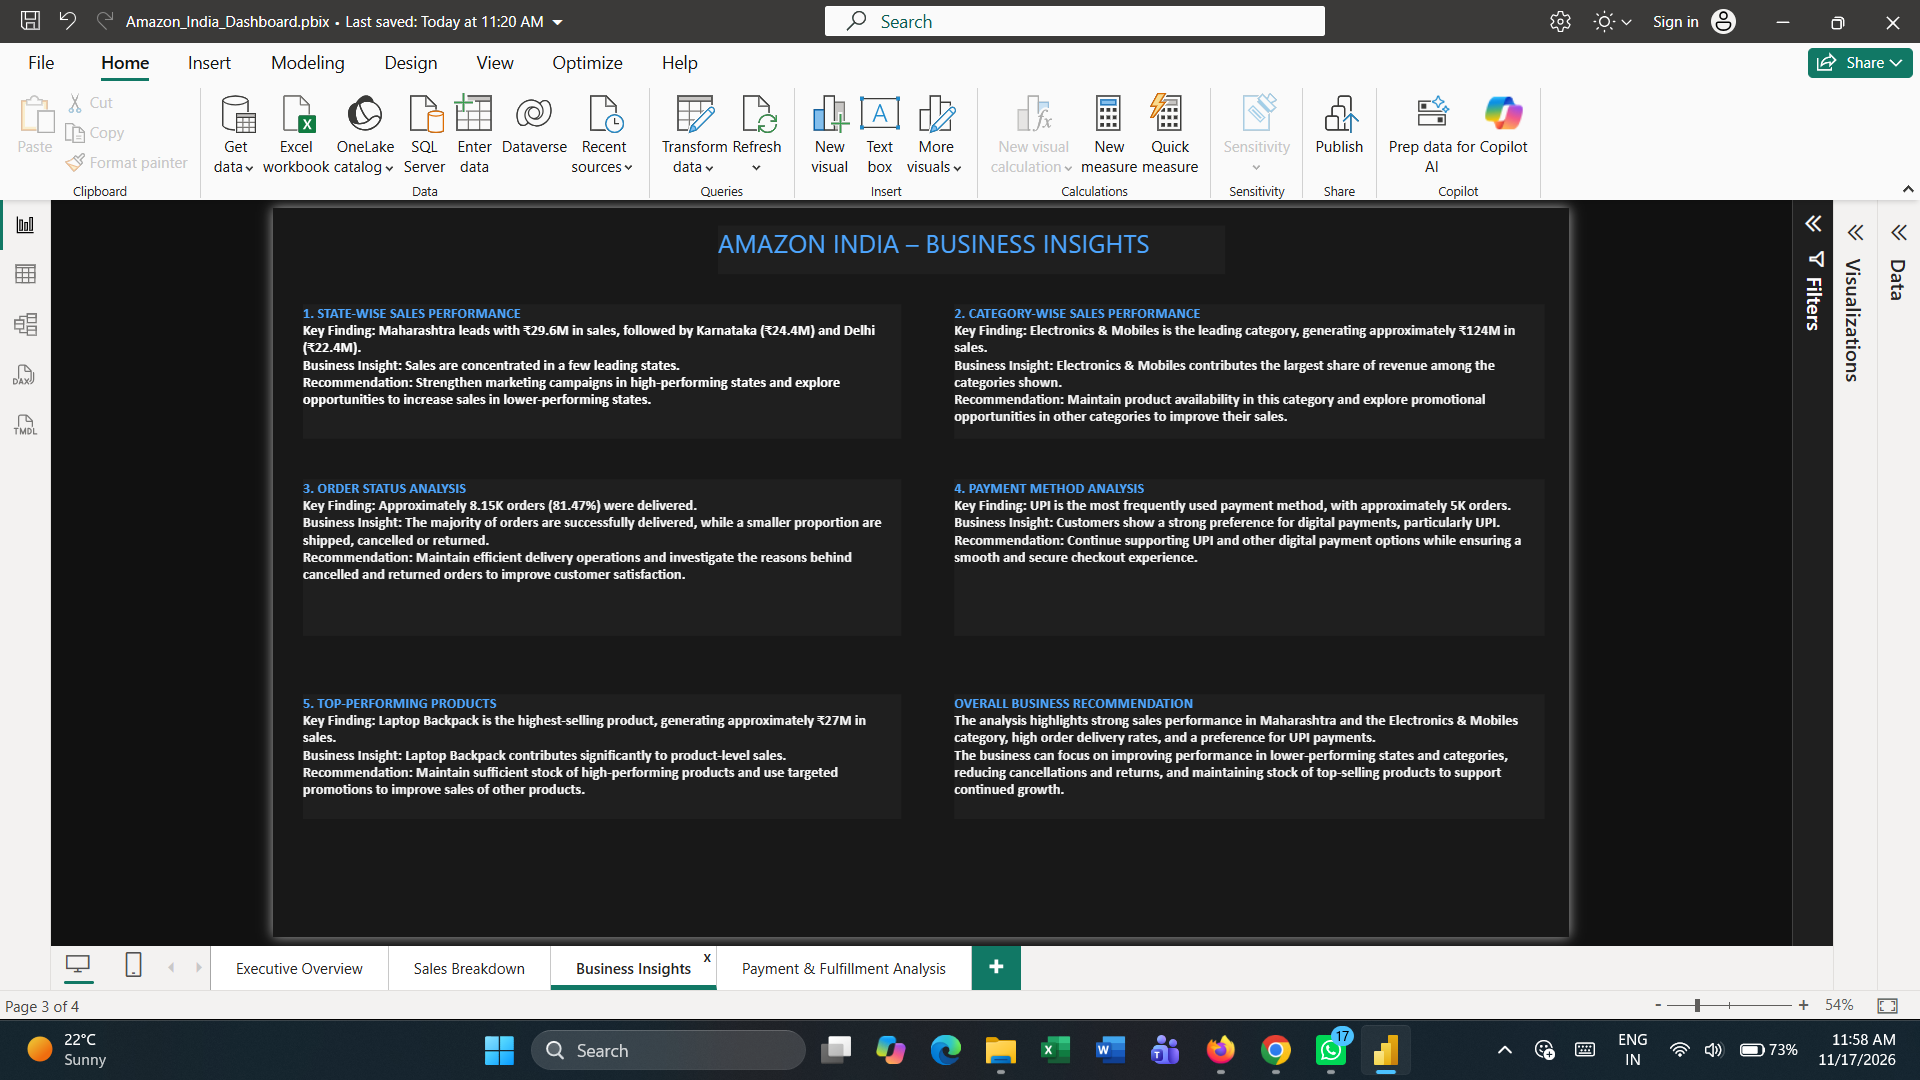

Layout of this report page (visuals, bound fields, positions):
{"tool":"powerbi","page":{"name":"Business Insights","canvas":[1920,1080],"ordinal":2},"visuals":[{"type":"textbox","box":[658.7,25.3,751,72.4],"z":0},{"type":"textbox","box":[45.2,143,886.7,199.1],"z":1},{"type":"textbox","box":[1009.8,143,874.1,199.1],"z":2},{"type":"textbox","box":[45.2,401.7,886.7,231.6],"z":3},{"type":"textbox","box":[1009.8,401.7,874.1,231.6],"z":4},{"type":"textbox","box":[45.2,720.2,886.7,184.6],"z":5},{"type":"textbox","box":[1009.8,720.2,874.1,184.6],"z":6}]}

Visuals, with their boxes on the page's 1920x1080 design canvas (x1, y1, x2, y2). These are canvas units, not pixel positions in the 1920x1080 screenshot, which may show the page scaled, cropped or inside an application window:
textbox: x1=659, y1=25, x2=1410, y2=98
textbox: x1=45, y1=143, x2=932, y2=342
textbox: x1=1010, y1=143, x2=1884, y2=342
textbox: x1=45, y1=402, x2=932, y2=633
textbox: x1=1010, y1=402, x2=1884, y2=633
textbox: x1=45, y1=720, x2=932, y2=905
textbox: x1=1010, y1=720, x2=1884, y2=905
